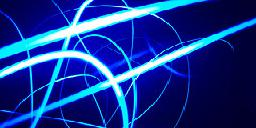LED: (7, 6, 167, 106)
